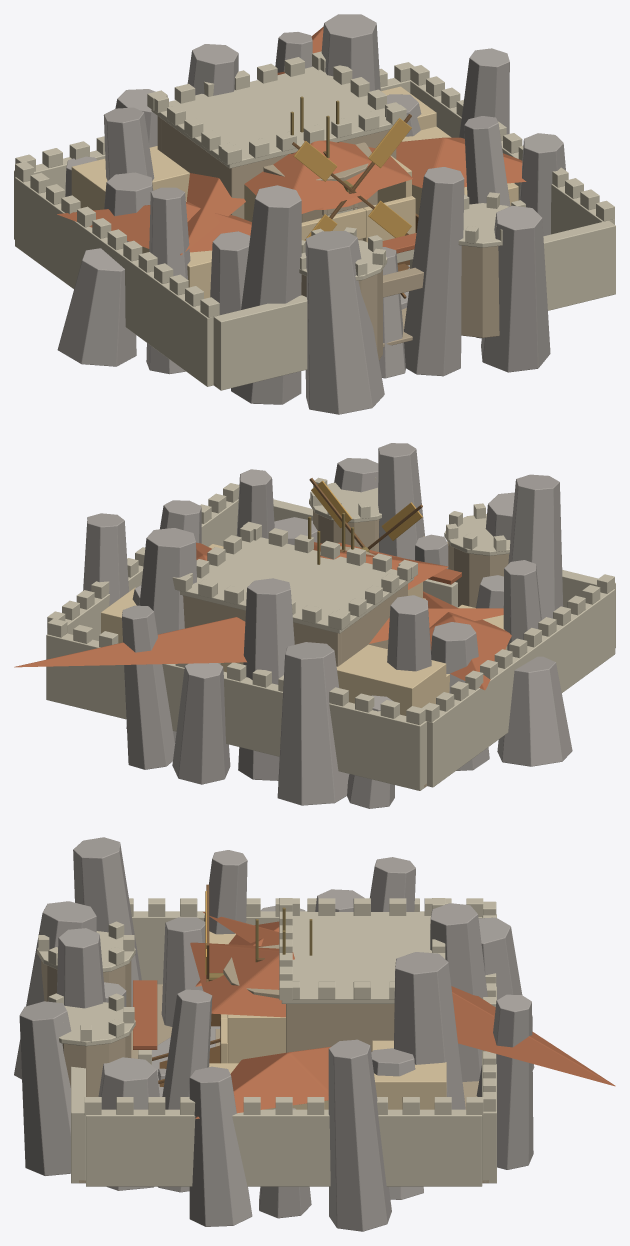
The model's file is eastern_marches_environment_kit_v1.glb.
3 renders of one model, top to bottom at view 1: azimuth 30°, elevation 25°; view 2: azimuth 150°, elevation 25°; view 3: azimuth 270°, elevation 25°, orthographic. The views are drawn at different scales.
Visible parts, largest first — view 1: EmbercragBasaltCrown, MarchKeepFortification, DawnfordCaravanserai, SaltwatchGranary, AmberfieldWindmill, CinderwatchBeacon; view 2: EmbercragBasaltCrown, MarchKeepFortification, DawnfordCaravanserai, AmberfieldWindmill, SaltwatchGranary, CinderwatchBeacon; view 3: EmbercragBasaltCrown, MarchKeepFortification, DawnfordCaravanserai, SaltwatchGranary, CinderwatchBeacon, AmberfieldWindmill.
Boxes of the visible parts, box(x1,y1,x2,y2) form: EmbercragBasaltCrown: box(57, 14, 565, 414); MarchKeepFortification: box(14, 51, 615, 390); DawnfordCaravanserai: box(57, 26, 526, 318); SaltwatchGranary: box(244, 140, 415, 298); AmberfieldWindmill: box(292, 114, 411, 240); CinderwatchBeacon: box(263, 96, 371, 222); EmbercragBasaltCrown: box(83, 443, 572, 808); MarchKeepFortification: box(46, 477, 615, 790); DawnfordCaravanserai: box(14, 542, 511, 715); AmberfieldWindmill: box(309, 478, 422, 552); SaltwatchGranary: box(313, 542, 448, 599); CinderwatchBeacon: box(308, 513, 375, 564); EmbercragBasaltCrown: box(14, 837, 534, 1231); MarchKeepFortification: box(37, 898, 496, 1186); DawnfordCaravanserai: box(131, 912, 615, 1118); SaltwatchGranary: box(152, 942, 294, 1086); CinderwatchBeacon: box(223, 907, 312, 998); AmberfieldWindmill: box(205, 884, 223, 982).
Bounding box in the file's own units: 58.27 × 23.72 × 61.51.
